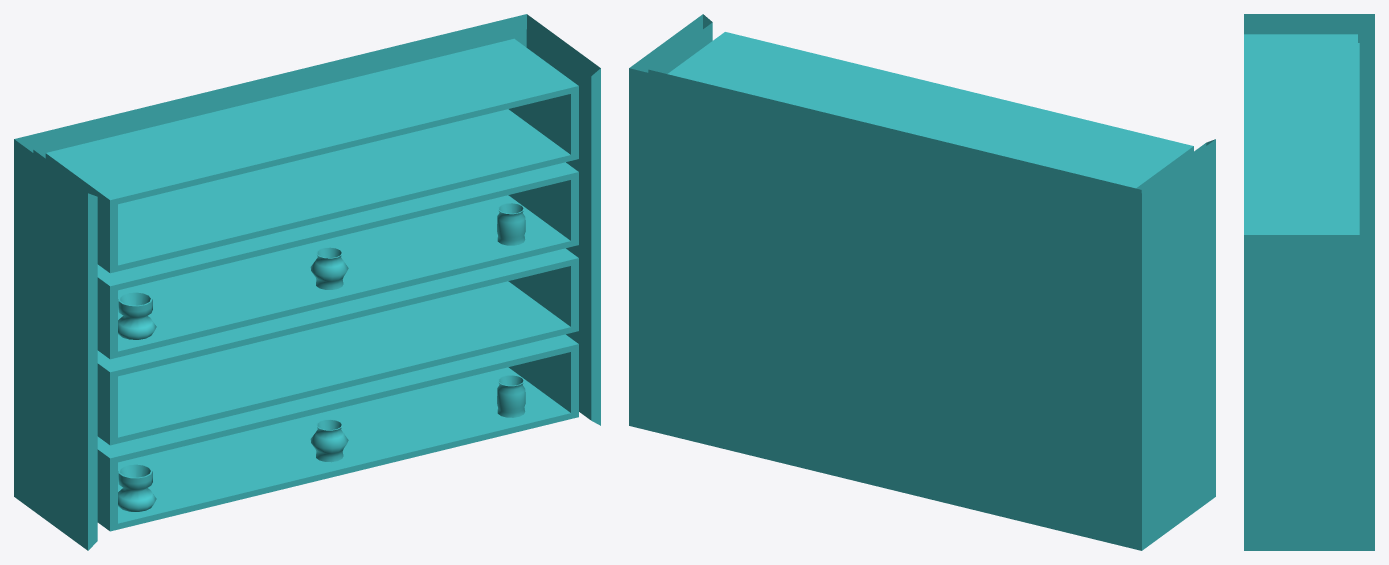
Rendered from Display_ShelfGlass.fbx.
3 renders of one model, left to right at view 1: azimuth 30°, elevation 25°; view 2: azimuth 150°, elevation 25°; view 3: azimuth 270°, elevation 25°, orthographic. The views are drawn at different scales.
Parts seen in each view (by area): view 1: polySurface3; view 2: polySurface3; view 3: polySurface3.
Boxes of the visible parts, x1,y1,x2,y2 form: polySurface3: [14, 14, 600, 550]; polySurface3: [629, 14, 1215, 550]; polySurface3: [1244, 14, 1374, 550].
Bounding box in the file's own units: 200 × 133 × 50.
